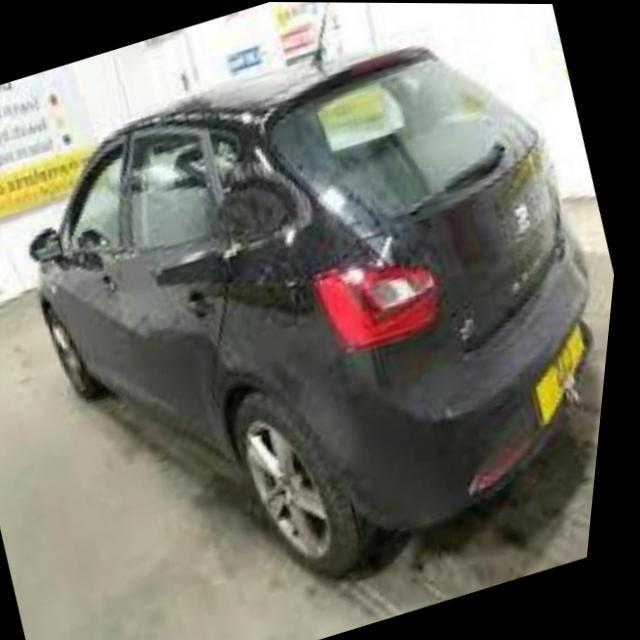glass shatter: (213, 163, 314, 266)
